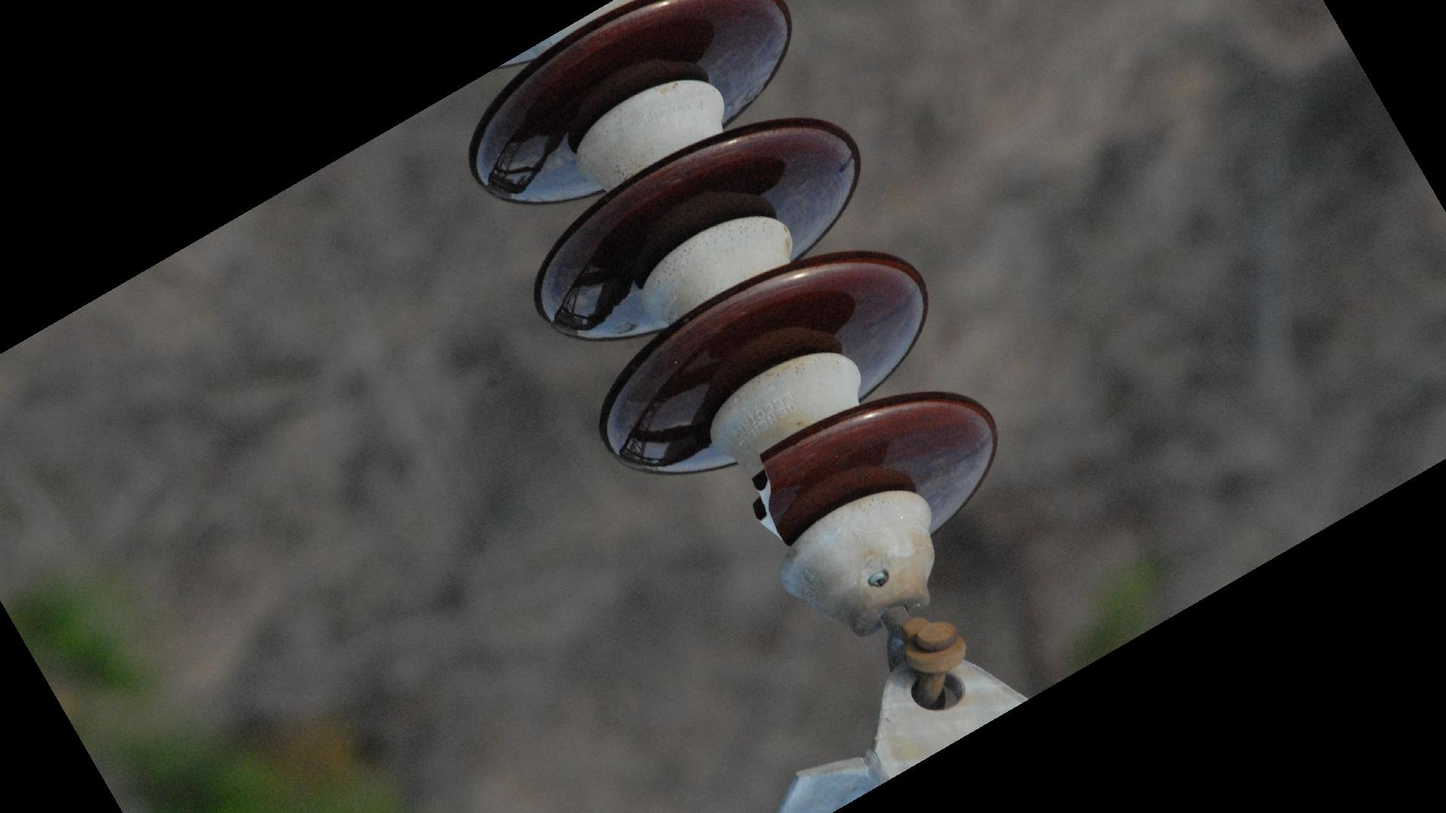insulator: (459, 1, 1003, 544)
insulator_breakage: (744, 449, 795, 553)
